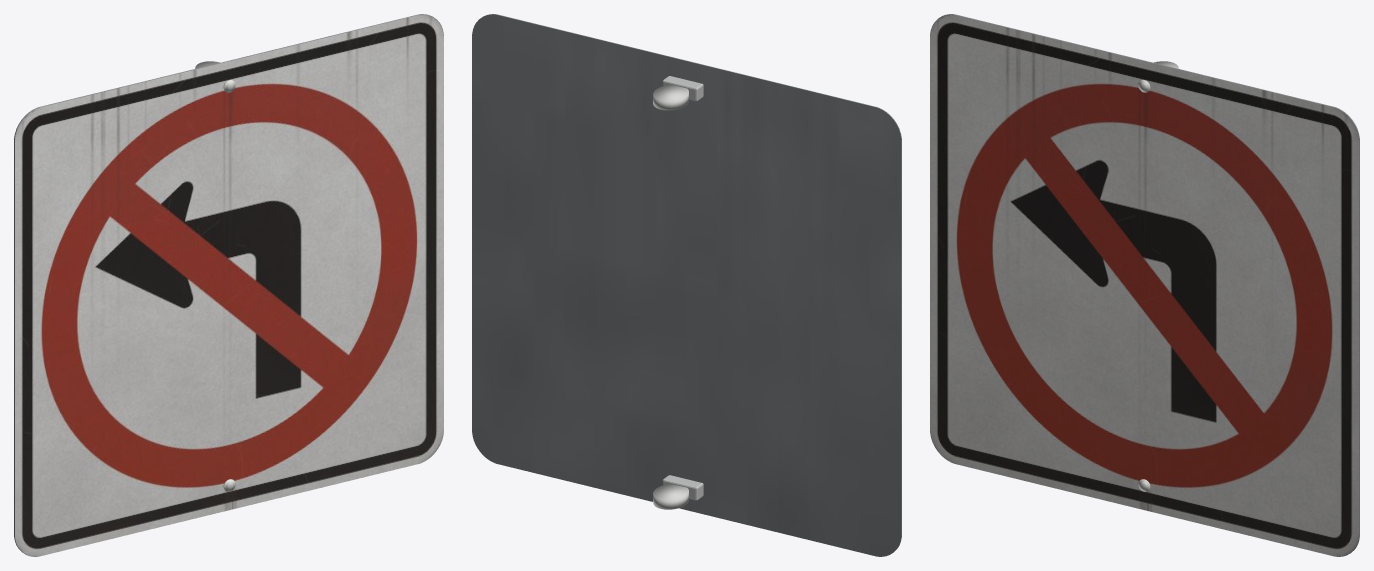
Rendered from noLeftTurn-v1.glb.
3 renders of one model, left to right at view 1: azimuth 30°, elevation 25°; view 2: azimuth 150°, elevation 25°; view 3: azimuth 330°, elevation 25°, orthographic.
Parts seen in each view (by area): view 1: noLeftTurn-v1; view 2: noLeftTurn-v1; view 3: noLeftTurn-v1.
Part boxes in pixels (x1,y1,x2,y2): noLeftTurn-v1: (14, 14, 443, 556); noLeftTurn-v1: (472, 14, 901, 556); noLeftTurn-v1: (930, 14, 1359, 556).
Bounding box in the file's own units: 0.762 × 0.762 × 0.0871.
1 material, 1 textured.
